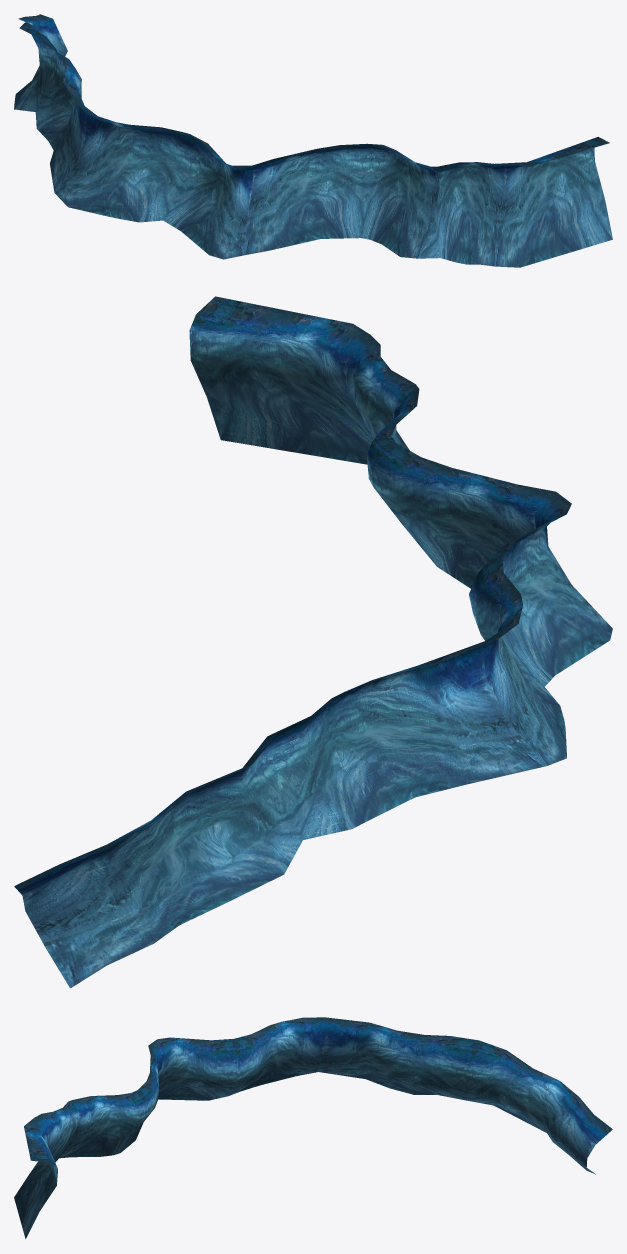
The model's file is f_2301_floor07_3.FBX.
3 renders of one model, top to bottom at view 1: azimuth 30°, elevation 25°; view 2: azimuth 150°, elevation 25°; view 3: azimuth 270°, elevation 25°, orthographic. The views are drawn at different scales.
Parts seen in each view (by area): view 1: w; view 2: w; view 3: w.
Boxes of the visible parts, left/top/right/bottom form: w: left=14, top=14, right=612, bottom=267; w: left=14, top=296, right=612, bottom=988; w: left=14, top=1017, right=612, bottom=1238.
Bounding box in the file's own units: 3590 × 1232 × 5779.
